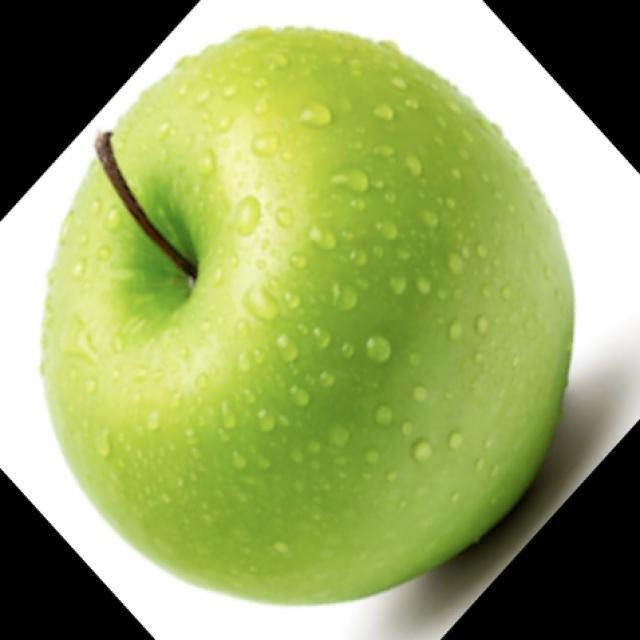Fresh Apple: (41, 25, 579, 607)
